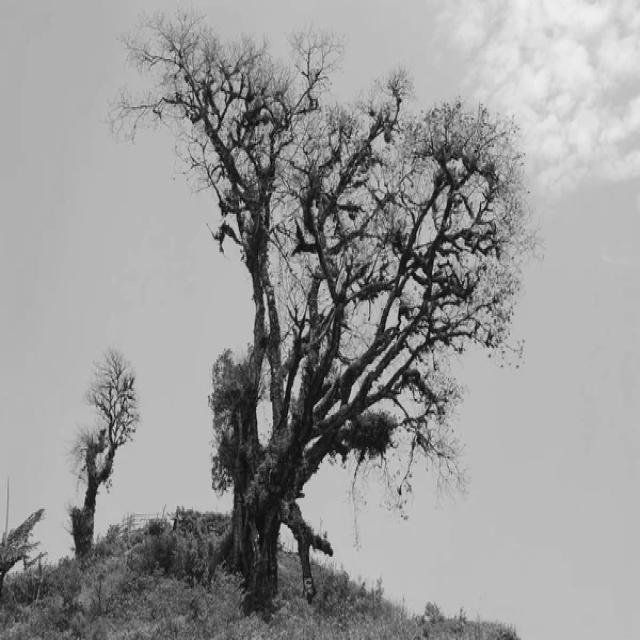Tree: (112, 12, 533, 606)
